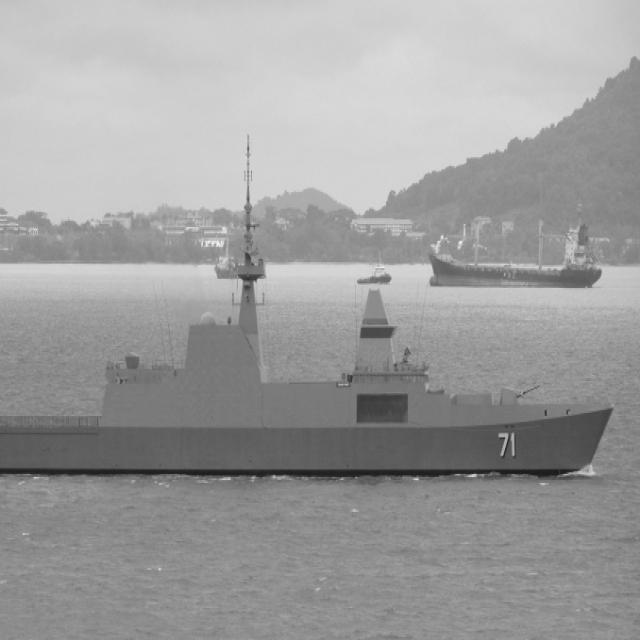Fragata: (1, 123, 624, 482)
